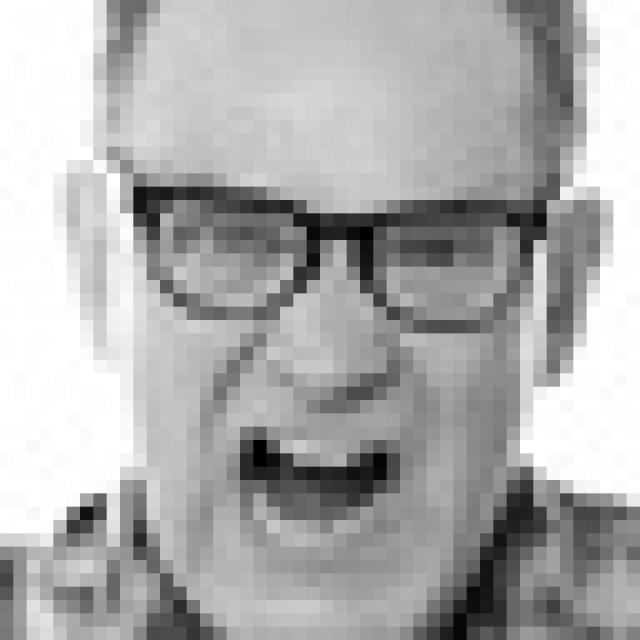angry: (130, 170, 533, 572)
